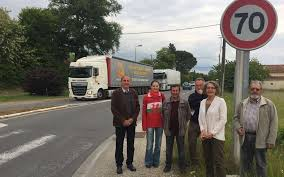Speed_limit_70km: (220, 1, 278, 50)
